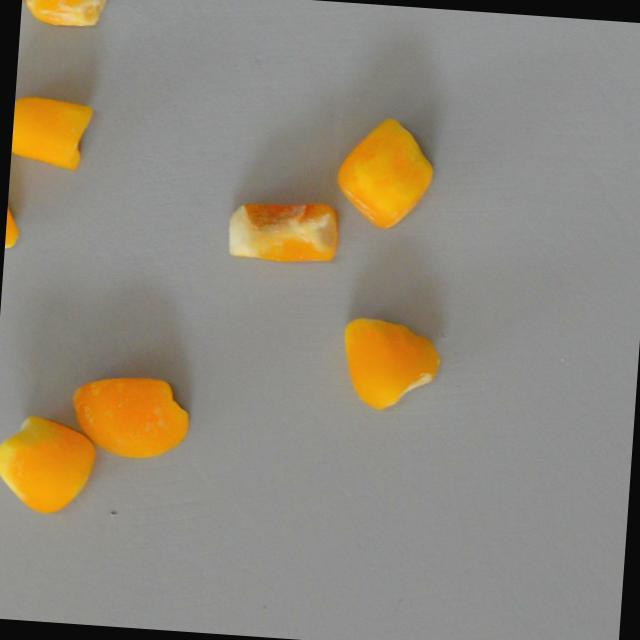dañado: (327, 108, 441, 236), (64, 364, 200, 466), (329, 309, 446, 419), (219, 190, 347, 272), (20, 0, 120, 32), (4, 144, 27, 256)
estandar: (10, 90, 97, 173)
no_canjicado: (0, 409, 103, 517)
